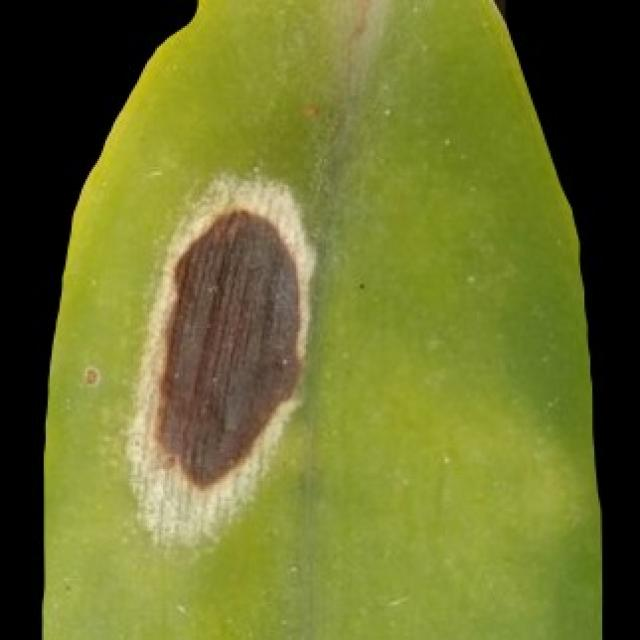mite: (64, 348, 117, 407), (76, 358, 105, 394), (348, 270, 374, 300), (81, 364, 99, 386), (352, 274, 370, 294), (356, 278, 366, 290), (62, 580, 72, 592)
spots: (38, 0, 604, 638)
sunburn: (147, 205, 308, 491)
